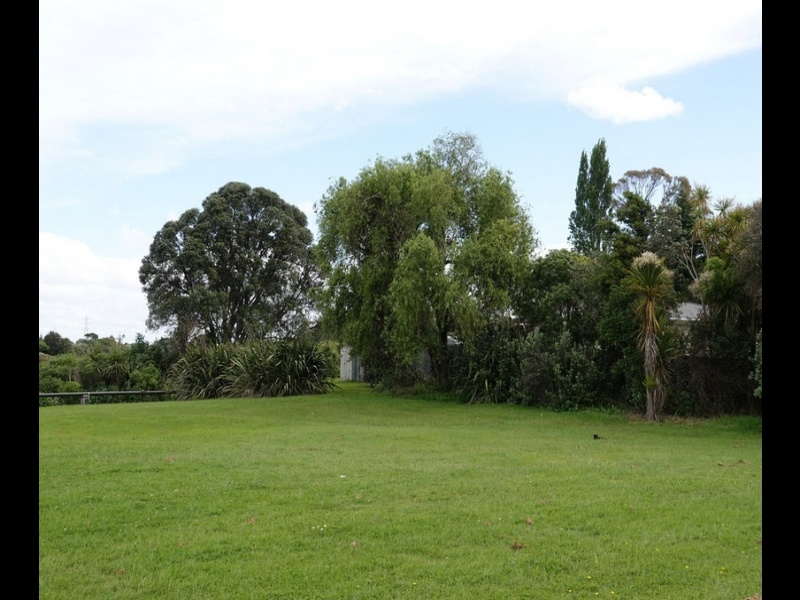cat: (593, 432, 601, 441)
